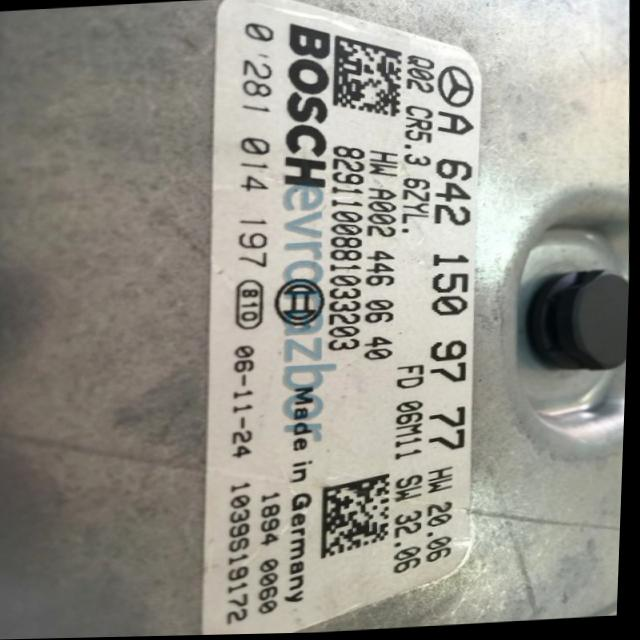datamatrix: (331, 33, 405, 123), (323, 476, 396, 561)
